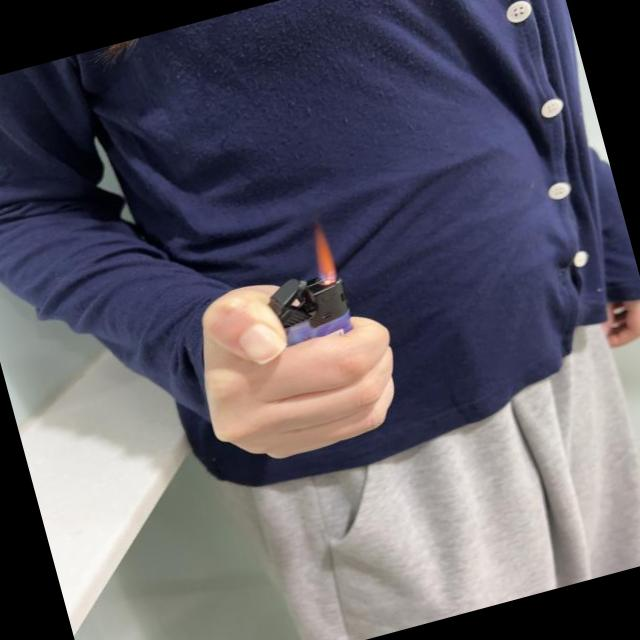Fire: (306, 220, 340, 284)
